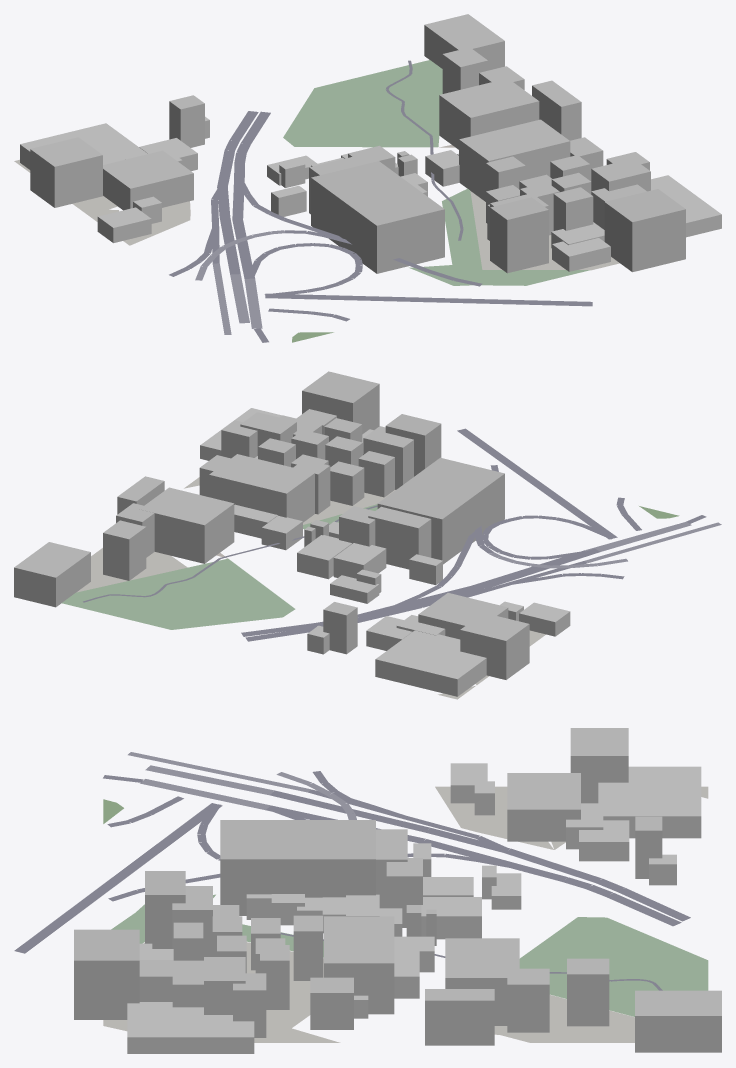
The model's file is 111_111_mid.glb.
The picture shows the model from 3 angles, top to bottom: view 1: azimuth 30°, elevation 25°; view 2: azimuth 150°, elevation 25°; view 3: azimuth 270°, elevation 25°; orthographic projection. The views are drawn at different scales.
Bounding box in the file's own units: 560 × 57.99 × 585.
